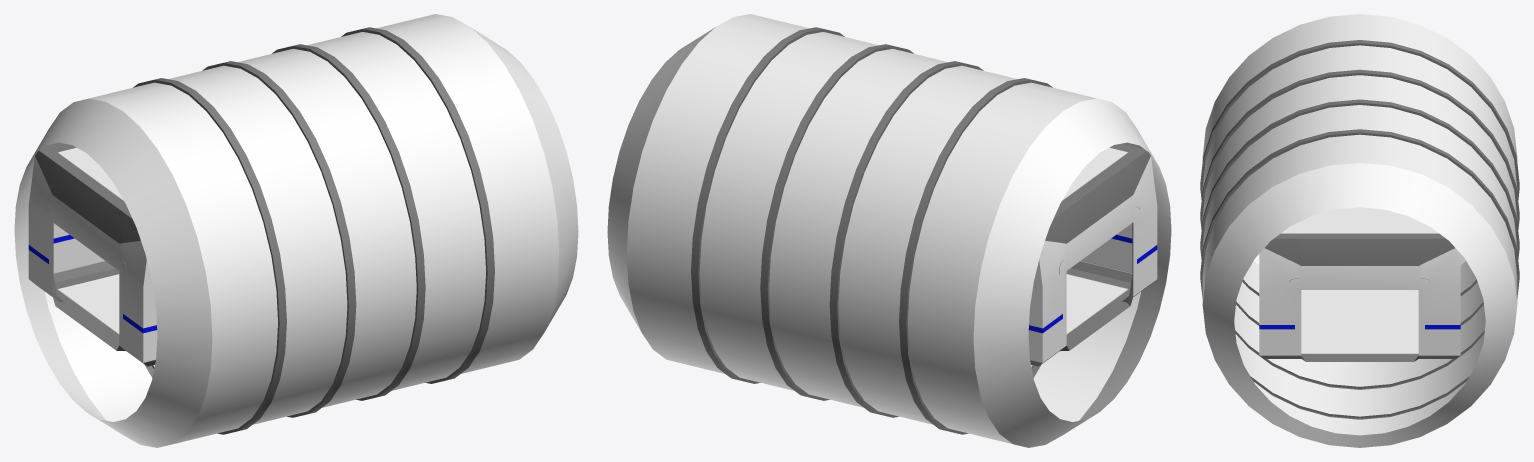
Rendered from HabAlmacenamiento.fbx.
The picture shows the model from 3 angles, left to right: view 1: azimuth 30°, elevation 25°; view 2: azimuth 150°, elevation 25°; view 3: azimuth 270°, elevation 25°; orthographic projection. The views are drawn at different scales.
Visible parts, largest first — view 1: HabAlmacenamiento; view 2: HabAlmacenamiento; view 3: HabAlmacenamiento.
Boxes of the visible parts, box(x1,y1,x2,y2) form: HabAlmacenamiento: box(14, 14, 578, 447); HabAlmacenamiento: box(607, 14, 1171, 447); HabAlmacenamiento: box(1200, 14, 1519, 447).
Size of the model in its own units: 3400 by 2540 by 2540.
1 material, 1 textured.
